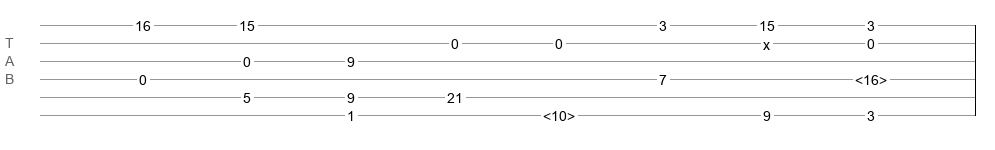0: (139, 72, 147, 82), (243, 54, 251, 64), (451, 36, 459, 46), (555, 36, 563, 46), (867, 36, 875, 46)
1: (347, 108, 355, 118)
15: (239, 18, 255, 28), (759, 18, 775, 28)
16: (135, 18, 151, 28)
21: (447, 90, 463, 100)
3: (659, 18, 667, 28), (867, 18, 875, 28), (867, 108, 875, 118)
5: (243, 90, 251, 100)
7: (659, 72, 667, 82)
9: (347, 90, 355, 100), (347, 54, 355, 64), (763, 108, 771, 118)
harmonic: (543, 108, 575, 118), (855, 72, 887, 82)
x: (763, 37, 770, 45)
